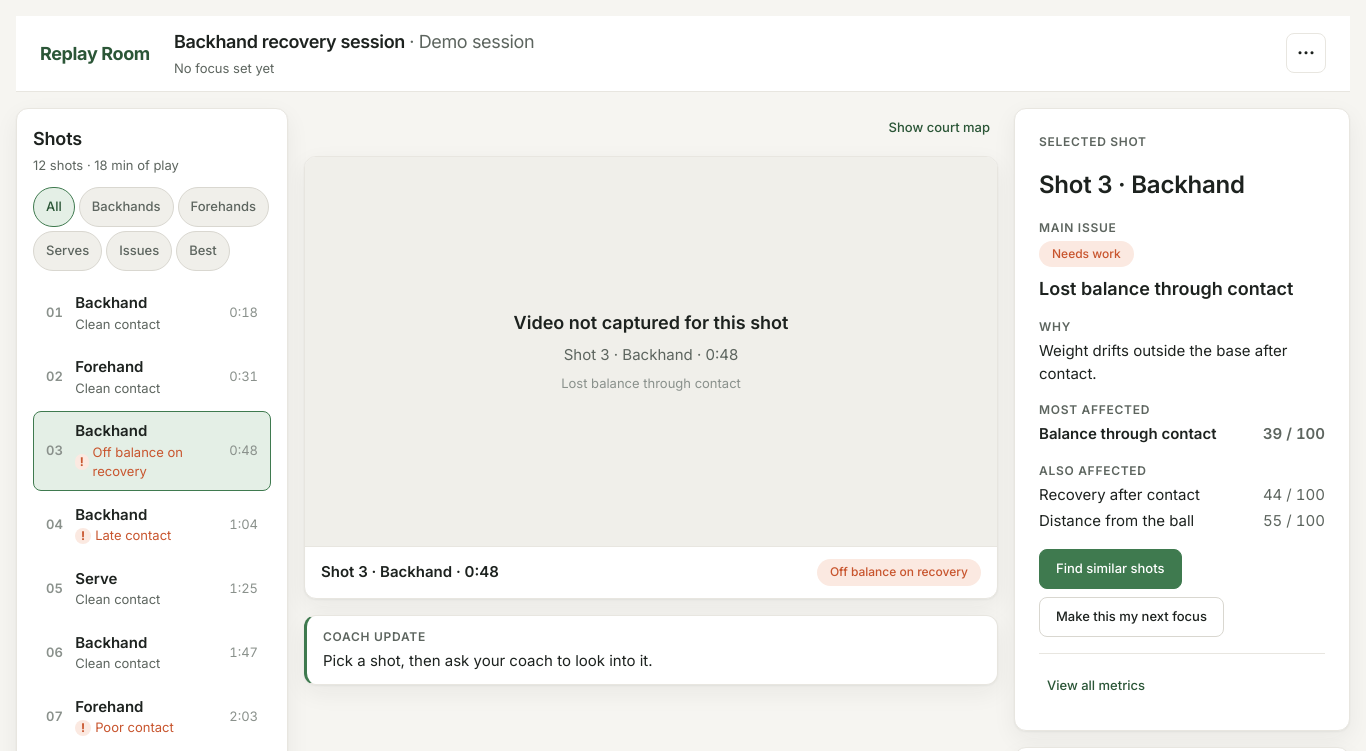
Test: App court map › is hidden in Player mode until the player toggles it on
The image size is (1366, 751).
Click the button with test id "court-toggle".
click(939, 128)  # box [881,108,998,148]
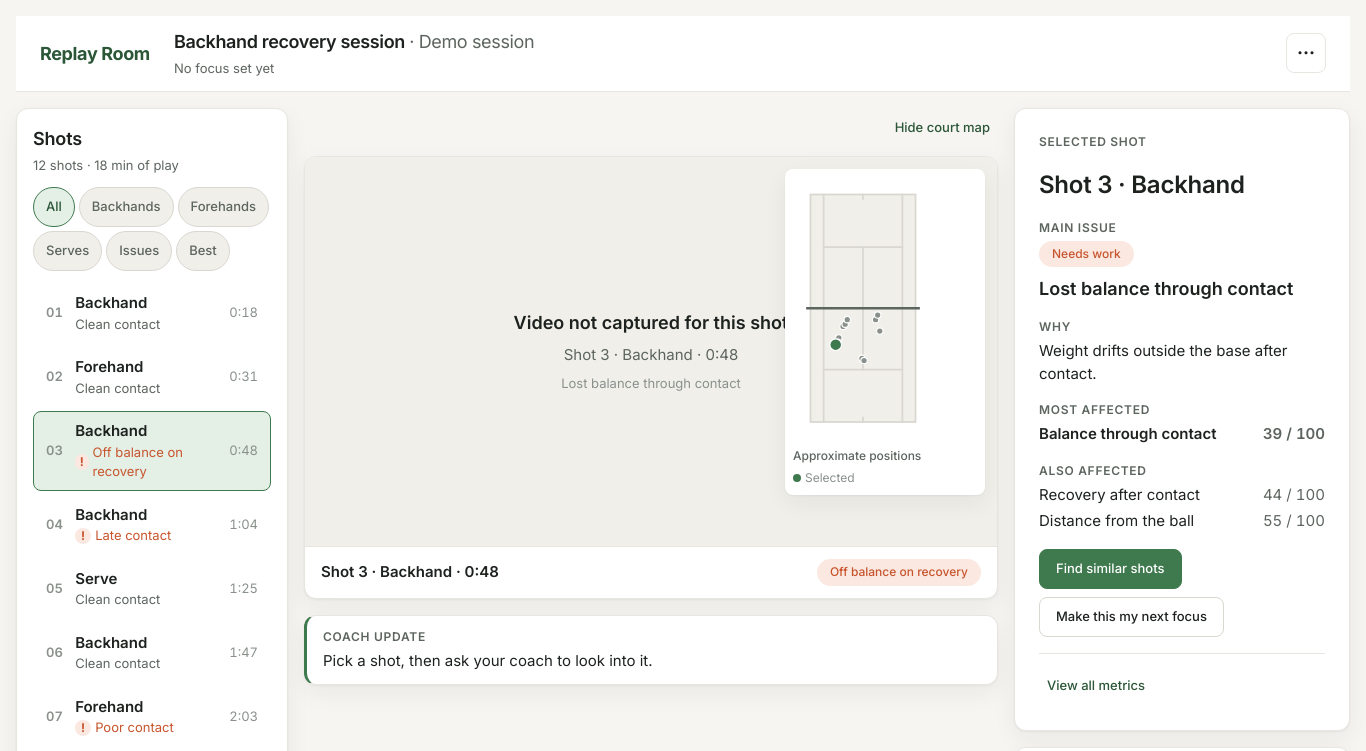
expect the element with class "court-map" is shown: met, box [793,176,933,487]
expect the button with test id "court-toggle" reads "Hide court map": met, box [887,108,998,148]
expect the text "Approximate positions" is shown: met, box [793,447,921,465]
